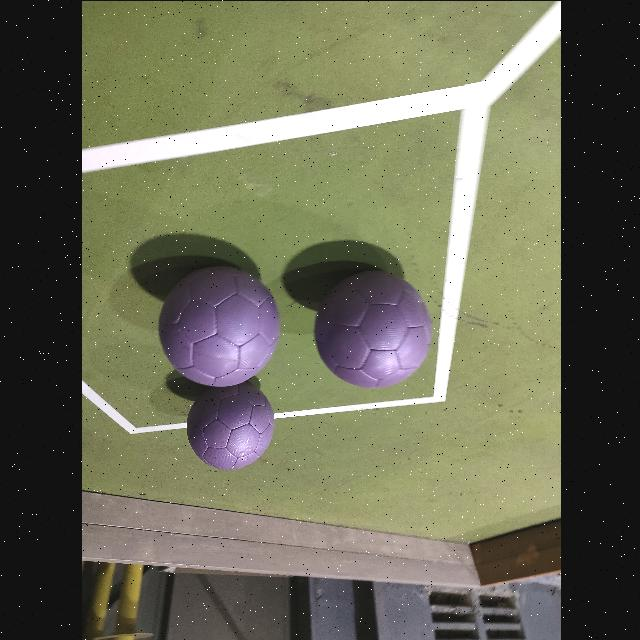P: (158, 266, 278, 386), (312, 270, 430, 388), (185, 383, 272, 469)
